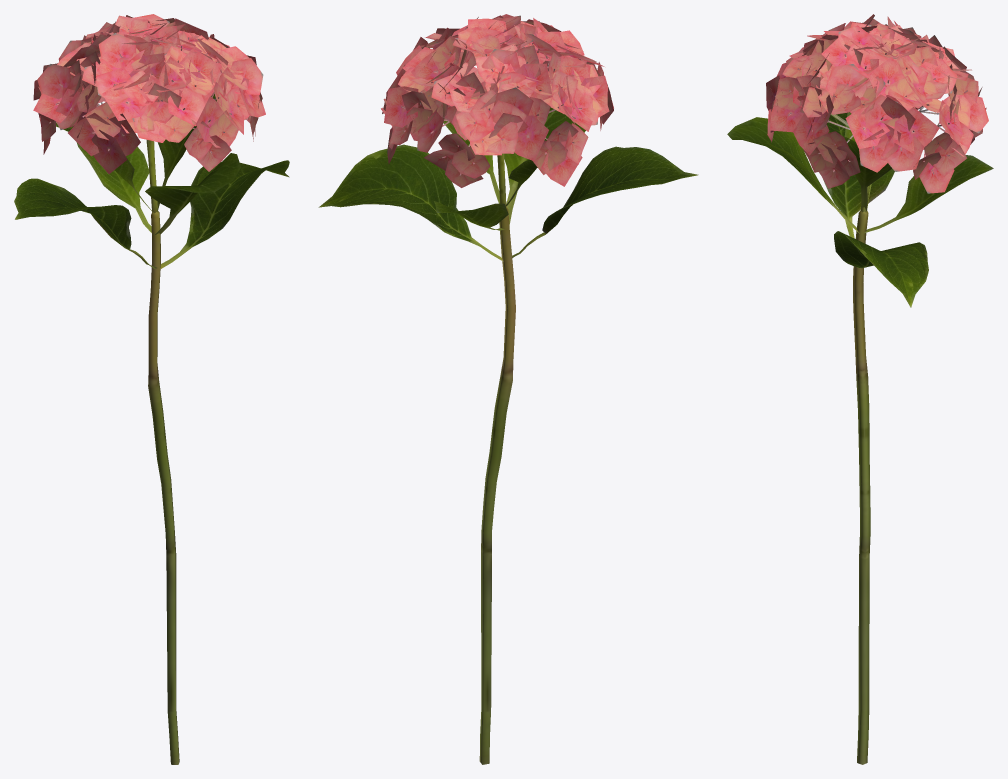
The model's file is Hydrangea_OG_long_red.glb.
3 renders of one model, left to right at view 1: azimuth 30°, elevation 25°; view 2: azimuth 150°, elevation 25°; view 3: azimuth 270°, elevation 25°, orthographic. The views are drawn at different scales.
Parts seen in each view (by area): view 1: Hydrangea; view 2: Hydrangea; view 3: Hydrangea.
Boxes of the visible parts, left/top/right/bottom form: Hydrangea: left=14, top=14, right=289, bottom=764; Hydrangea: left=318, top=14, right=698, bottom=764; Hydrangea: left=727, top=14, right=993, bottom=764.
Size of the model in its own units: 1.38 by 2.99 by 1.
Materials: 1 (1 with a texture image).
